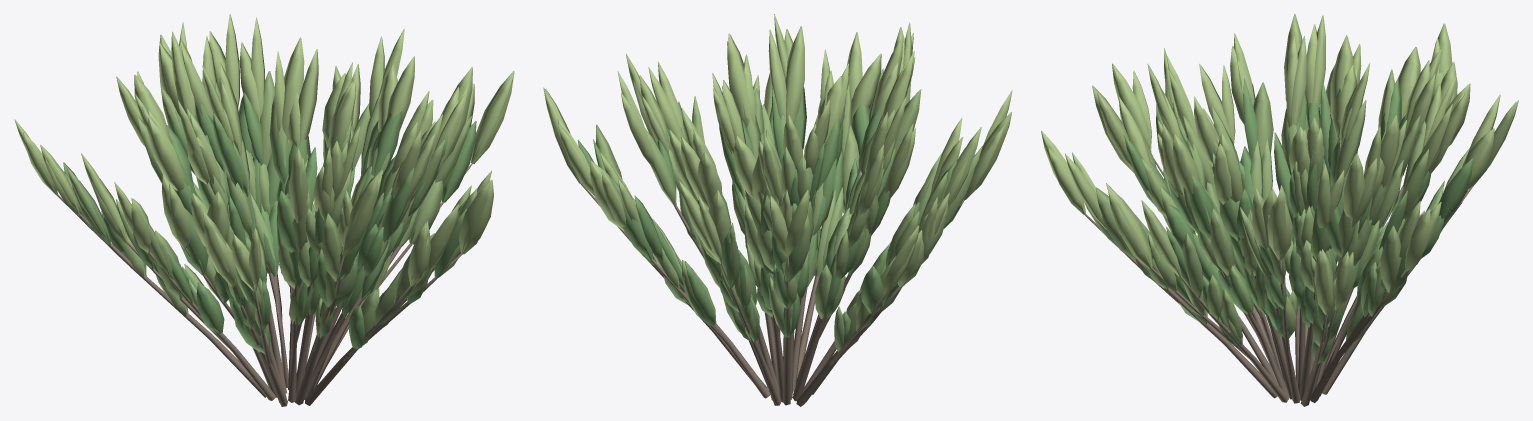
File: chirca_bush_2.glb
The picture shows the model from 3 angles, left to right: view 1: azimuth 30°, elevation 25°; view 2: azimuth 150°, elevation 25°; view 3: azimuth 270°, elevation 25°; orthographic projection.
Parts seen in each view (by area): view 1: ChircaFoliageTip, ChircaFoliageDeep, ChircaFoliageMid, ChircaStems; view 2: ChircaFoliageTip, ChircaFoliageMid, ChircaFoliageDeep, ChircaStems; view 3: ChircaFoliageTip, ChircaFoliageMid, ChircaFoliageDeep, ChircaStems.
Boxes of the visible parts, x1,y1,x2,y2 form: ChircaFoliageTip: [14, 14, 514, 291]; ChircaFoliageDeep: [63, 92, 476, 353]; ChircaFoliageMid: [64, 71, 471, 351]; ChircaStems: [56, 156, 472, 406]; ChircaFoliageTip: [543, 14, 1012, 295]; ChircaFoliageMid: [588, 68, 982, 352]; ChircaFoliageDeep: [577, 86, 974, 344]; ChircaStems: [580, 168, 964, 406]; ChircaFoliageTip: [1041, 14, 1518, 314]; ChircaFoliageMid: [1084, 69, 1469, 361]; ChircaFoliageDeep: [1098, 78, 1473, 364]; ChircaStems: [1084, 137, 1473, 406].
Bounding box in the file's own units: 2.52 × 1.82 × 2.4.
